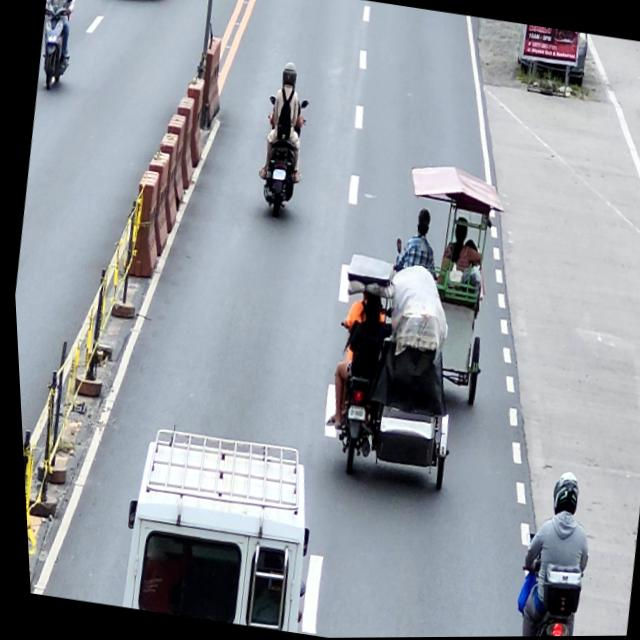Car: (106, 424, 321, 634)
License-Plate: (342, 405, 362, 423), (270, 169, 285, 180)
Motorcycle: (500, 534, 583, 637), (250, 96, 312, 221), (32, 0, 80, 94)
Tricycle: (312, 253, 474, 493), (368, 172, 507, 408)
